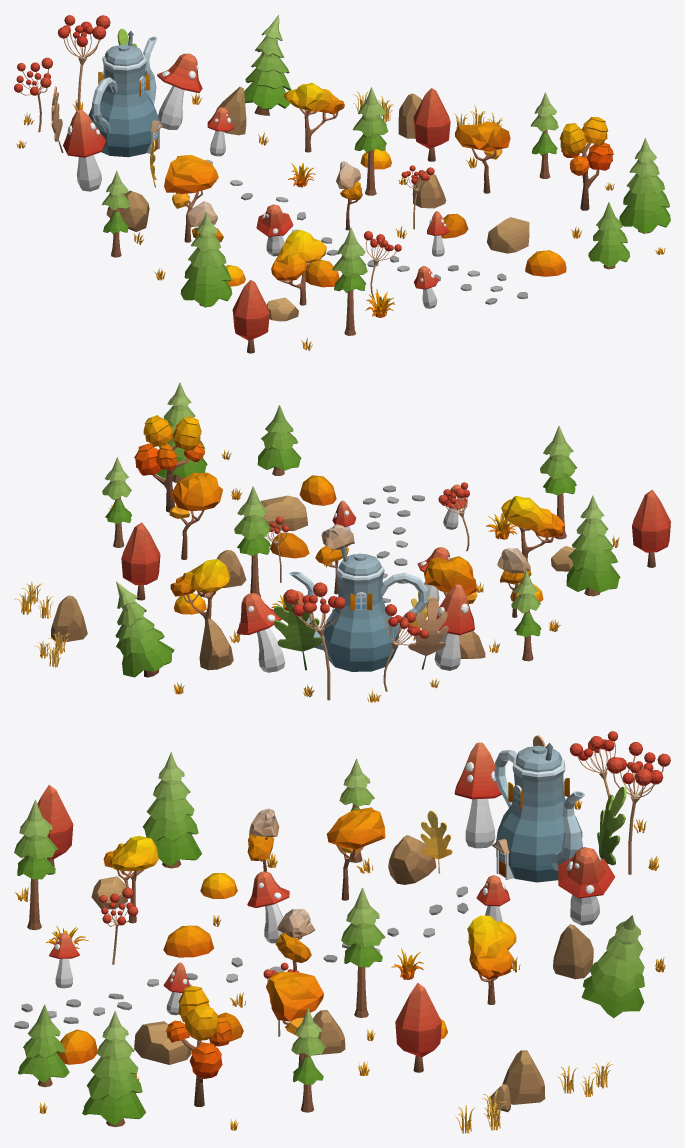
Rendered from setpiece_tea_house.glb.
3 views of the same model, one above another, from view 1: azimuth 30°, elevation 25°; view 2: azimuth 150°, elevation 25°; view 3: azimuth 270°, elevation 25° (orthographic). The views are drawn at different scales.
Parts seen in each view (by area): view 1: teapot house_12, fir tree large (1)_58, fir tree large_62, fir tree bent_15, autumn tree 19_14, agaric mushroom 2 (1)_56, autumn tree 17_27, autumn tree 22_17, agaric mushroom 4 (1)_3, pine tree large (1)_76, pine tree large_0, autumn tree 23 (1)_37 (+24 smaller); view 2: teapot house_12, autumn tree 19_14, fir tree large (1)_58, fir tree bent_15, agaric mushroom 4 (1)_3, autumn tree 17 (1)_79, agaric mushroom 2 (1)_56, autumn tree 23 (1)_37, autumn tree 23_57, autumn tree 22_17, pine tree large (1)_76, pine tree large_0 (+22 smaller); view 3: teapot house_12, fir tree large_62, fir tree bent_15, fir tree large (1)_58, autumn tree 19_14, agaric mushroom 2 (1)_56, agaric mushroom 4 (1)_3, autumn tree 22 (1)_53, pine tree large_0, pine tree large (1)_76, autumn tree 23_57, autumn tree 17 (1)_79 (+26 smaller).
Boxes of the visible parts, x1,y1,x2,y2 form: teapot house_12: (88, 31, 163, 157); fir tree large (1)_58: (180, 211, 232, 307); fir tree large_62: (619, 138, 670, 233); fir tree bent_15: (244, 14, 291, 115); autumn tree 19_14: (559, 117, 613, 210); agaric mushroom 2 (1)_56: (63, 109, 106, 191); autumn tree 17_27: (164, 155, 218, 242); autumn tree 22_17: (271, 230, 326, 305); agaric mushroom 4 (1)_3: (157, 53, 202, 129); pine tree large (1)_76: (352, 87, 388, 195); pine tree large_0: (332, 227, 367, 335); autumn tree 23 (1)_37: (232, 280, 269, 353); teapot house_12: (289, 546, 428, 671); autumn tree 19_14: (134, 415, 204, 512); fir tree large (1)_58: (566, 495, 620, 596); fir tree bent_15: (115, 581, 174, 677); agaric mushroom 4 (1)_3: (236, 593, 285, 672); autumn tree 17 (1)_79: (169, 472, 222, 559); agaric mushroom 2 (1)_56: (434, 584, 474, 670); autumn tree 23 (1)_37: (632, 489, 670, 567); autumn tree 23_57: (121, 522, 160, 600); autumn tree 22_17: (501, 495, 564, 560); pine tree large (1)_76: (234, 486, 271, 596); pine tree large_0: (540, 426, 577, 539); teapot house_12: (492, 743, 584, 882); fir tree large_62: (82, 1011, 145, 1127); fir tree bent_15: (581, 915, 644, 1018); fir tree large (1)_58: (143, 752, 201, 868); autumn tree 19_14: (165, 986, 232, 1106); agaric mushroom 2 (1)_56: (454, 742, 501, 848); agaric mushroom 4 (1)_3: (558, 847, 614, 925); autumn tree 22 (1)_53: (467, 915, 516, 1004); pine tree large_0: (14, 799, 58, 930); pine tree large (1)_76: (341, 887, 385, 1017); autumn tree 23_57: (395, 982, 441, 1072); autumn tree 17 (1)_79: (266, 971, 323, 1066).
Size of the model in its own units: 13.14 by 4.41 by 13.24.
1 material, 1 textured.
